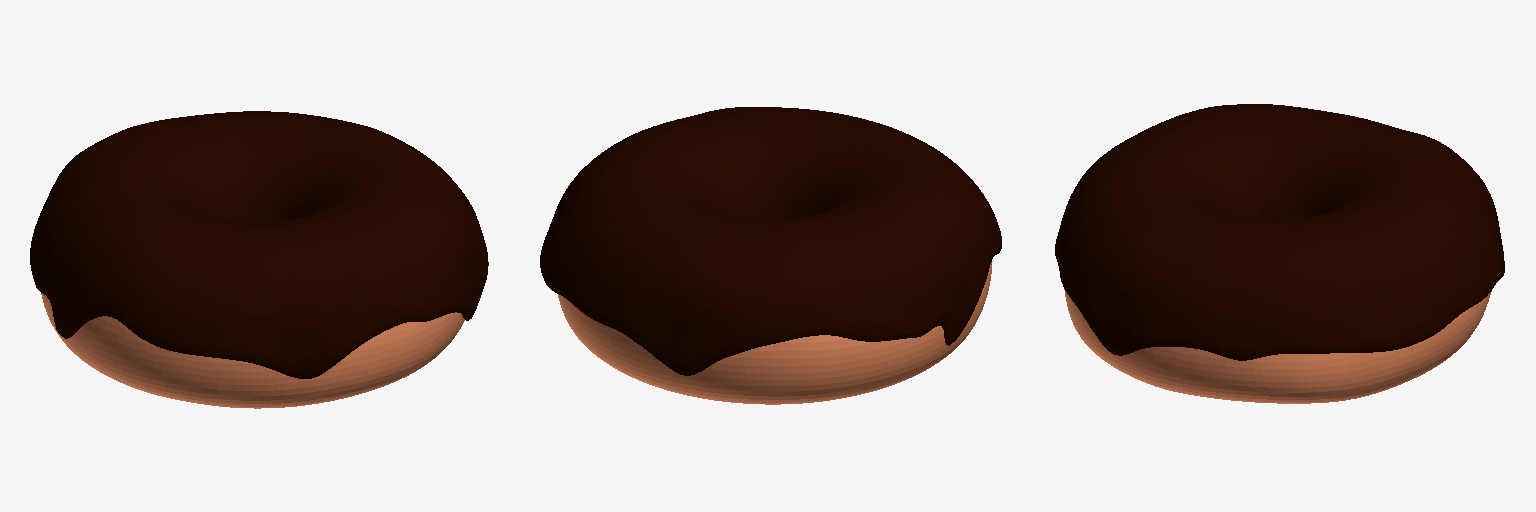
The model's file is Donut2.obj.
3 renders of one model, left to right at view 1: azimuth 30°, elevation 25°; view 2: azimuth 150°, elevation 25°; view 3: azimuth 270°, elevation 25°, orthographic.
Parts seen in each view (by area): view 1: Icing_Torus.001, Donut_Torus; view 2: Icing_Torus.001, Donut_Torus; view 3: Icing_Torus.001, Donut_Torus.
Part boxes in pixels (x1,y1,x2,y2): Icing_Torus.001: (30, 111, 488, 378); Donut_Torus: (41, 293, 464, 408); Icing_Torus.001: (540, 107, 1001, 375); Donut_Torus: (558, 262, 991, 404); Icing_Torus.001: (1055, 104, 1504, 360); Donut_Torus: (1064, 289, 1491, 403).
Size of the model in its own units: 0.1021 by 0.0424 by 0.1018.